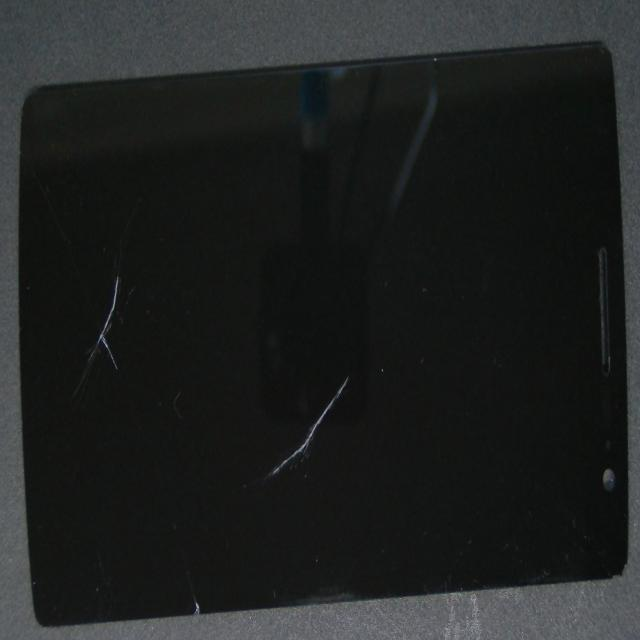Scratches: (238, 365, 399, 523), (72, 256, 167, 422), (154, 531, 221, 614)
